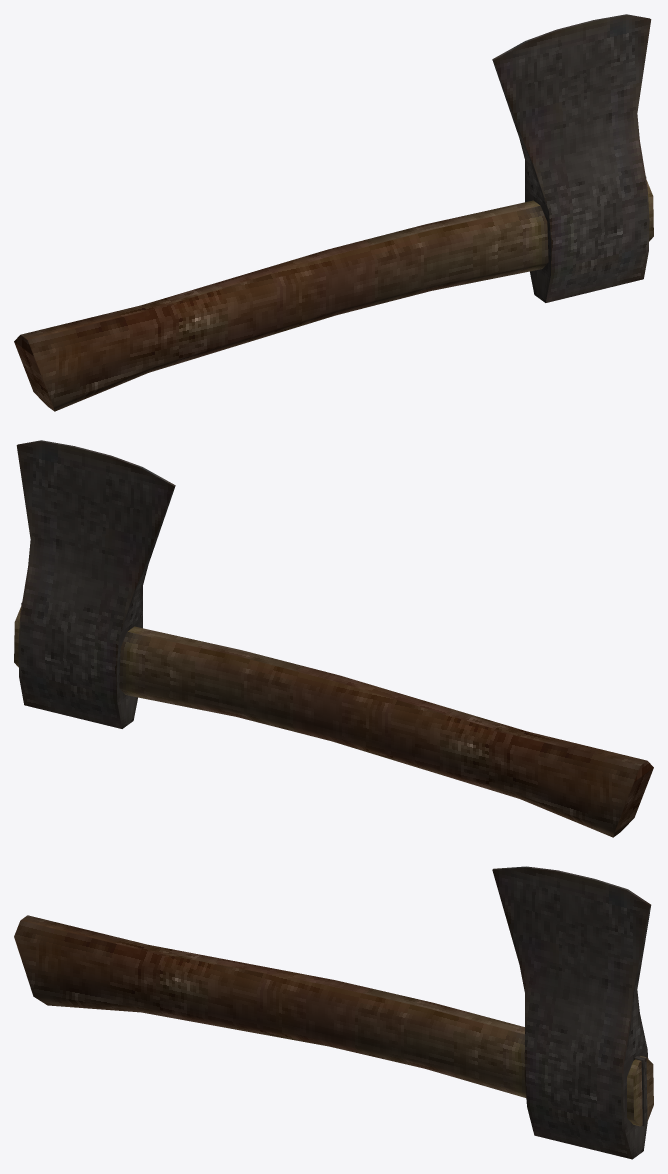
The model's file is shop-axe.glb.
3 renders of one model, top to bottom at view 1: azimuth 30°, elevation 25°; view 2: azimuth 150°, elevation 25°; view 3: azimuth 330°, elevation 25°, orthographic.
Parts seen in each view (by area): view 1: axe_mx_1; view 2: axe_mx_1; view 3: axe_mx_1.
Boxes of the visible parts, box(x1,y1,x2,y2) form: axe_mx_1: box(14, 14, 653, 411); axe_mx_1: box(14, 440, 653, 837); axe_mx_1: box(14, 866, 653, 1159).
Size of the model in its own units: 0.6527 by 0.2641 by 0.048.
1 material, 1 textured.
